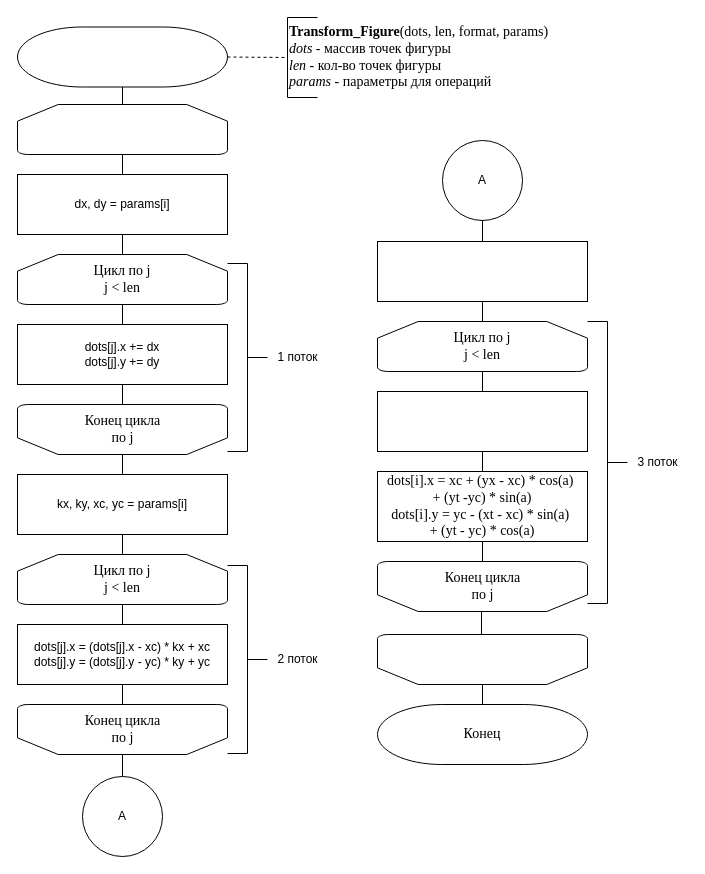
Image size: 705x874. Some labels were removed from this diagram. Here are the shapes that lost their labels. From the top down, the centre of each, then its label:
the point at 122,56: Начало
the point at 122,129: Цикл по i i < 3
the point at 482,271: a, xc, yc = params[i]
the point at 482,421: xt = dots[i].x yt = dots[i].y
the point at 482,659: Конец цикла по i
